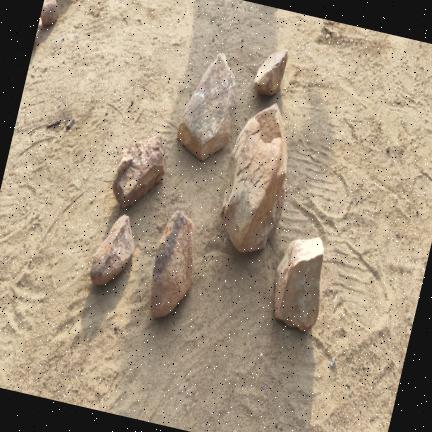Rocks: (222, 105, 286, 252), (177, 54, 235, 160), (273, 237, 323, 331), (149, 211, 193, 317), (112, 136, 163, 207), (89, 215, 133, 285), (254, 50, 287, 95), (40, 0, 57, 24), (65, 118, 74, 130), (36, 19, 41, 37), (328, 357, 335, 369)
